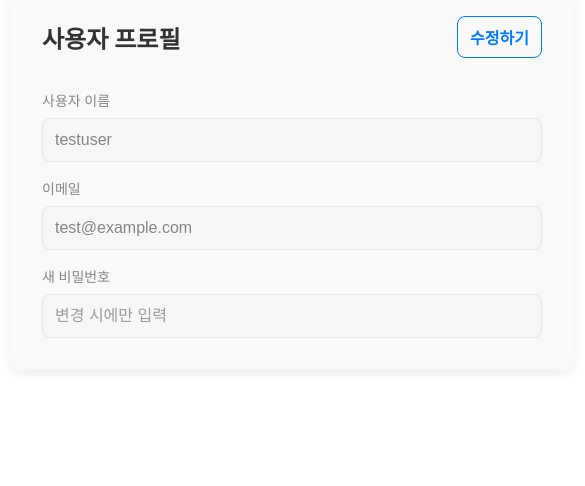
Scenario: UserProfileForm › 수정 버튼을 누르면 입력 필드가 활성화됩니다.
Click the button "수정하기".
click(500, 37)  # box left=457, top=16, right=542, bottom=58
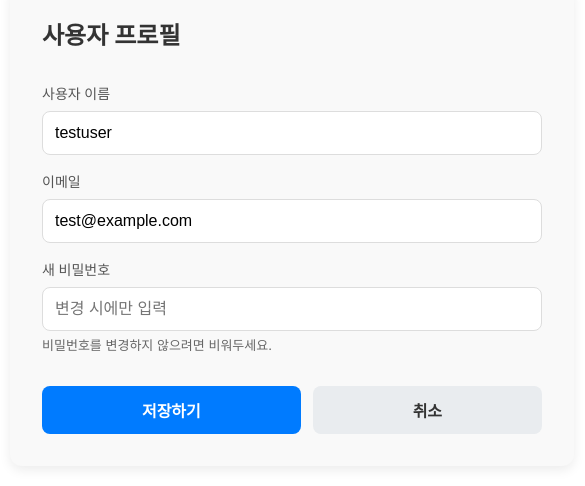
Expected: the field labelled "사용자 이름" is enabled, left=42, top=111, right=542, bottom=155
Expected: the button "저장하기" is shown, left=42, top=386, right=301, bottom=434
Expected: the button "취소" is shown, left=313, top=386, right=542, bottom=434
